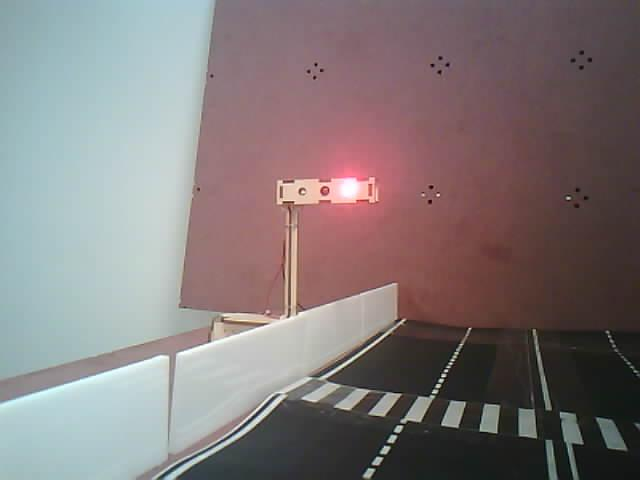crosswalk: (273, 369, 639, 455)
red: (262, 171, 394, 279)
